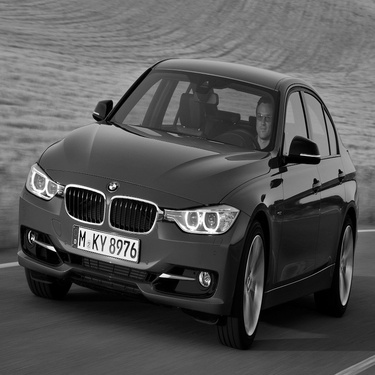car: (13, 55, 360, 350)
